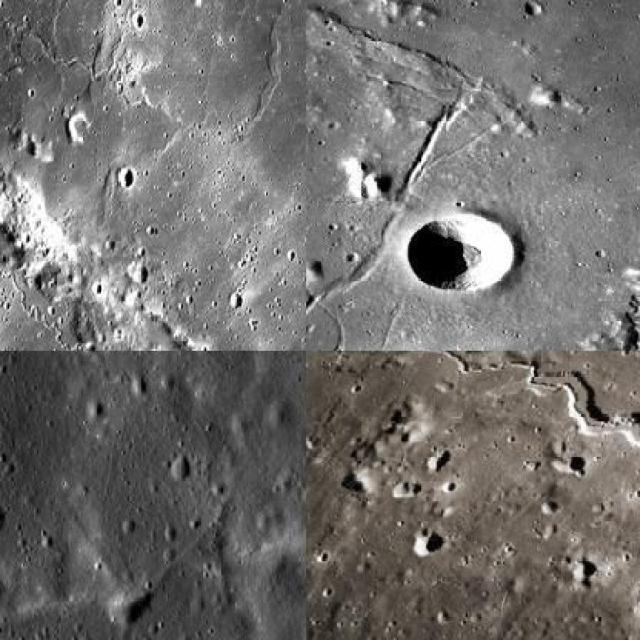rille: (314, 0, 638, 349), (0, 85, 305, 349), (374, 351, 638, 526), (0, 466, 235, 638), (306, 103, 468, 349)
